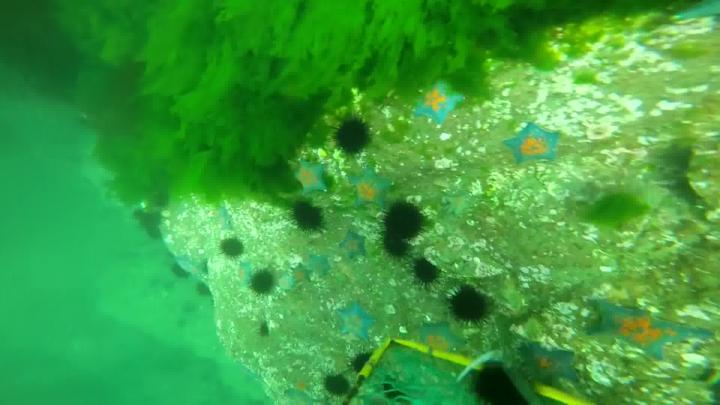echinus: (474, 363, 525, 405), (449, 286, 497, 328), (327, 118, 374, 157), (383, 199, 429, 236), (289, 205, 325, 234), (132, 210, 165, 238), (413, 259, 440, 292), (351, 354, 380, 376), (247, 272, 274, 295), (325, 375, 350, 399), (222, 239, 243, 259), (385, 241, 410, 256), (195, 285, 214, 297)
starfish: (595, 296, 713, 364), (523, 345, 580, 389), (504, 124, 562, 166), (417, 82, 463, 128), (336, 302, 377, 345), (416, 324, 465, 358), (349, 172, 391, 210), (297, 162, 328, 195), (339, 233, 369, 259), (447, 195, 470, 217), (288, 375, 312, 395), (292, 265, 311, 287), (311, 258, 332, 273), (212, 210, 231, 225), (178, 260, 195, 274), (239, 267, 251, 285)
